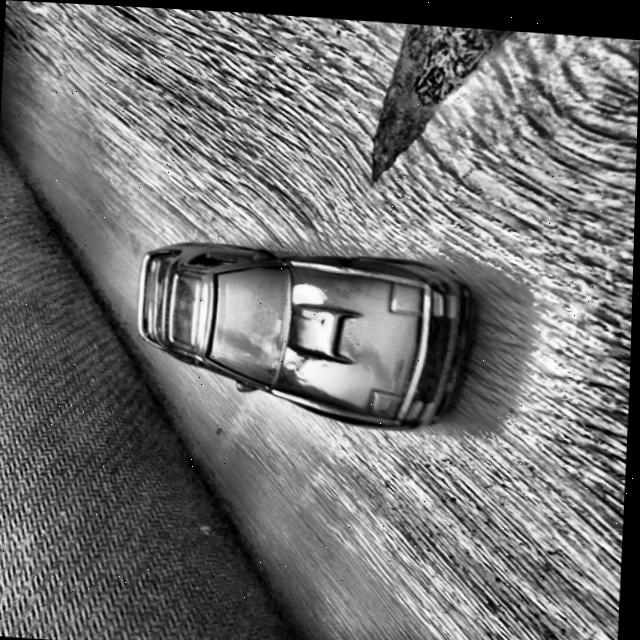car: (133, 235, 475, 429)
